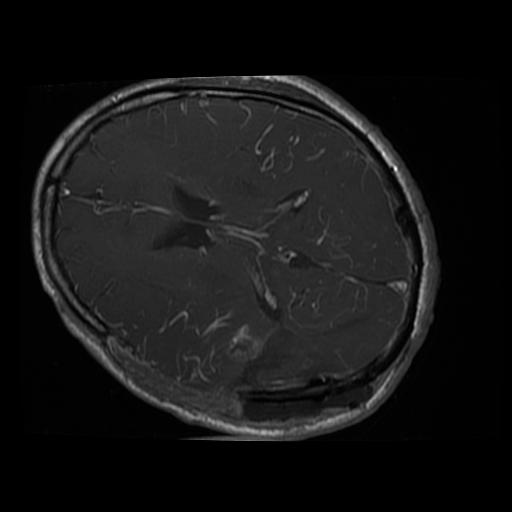glioma: (239, 314, 389, 422)
